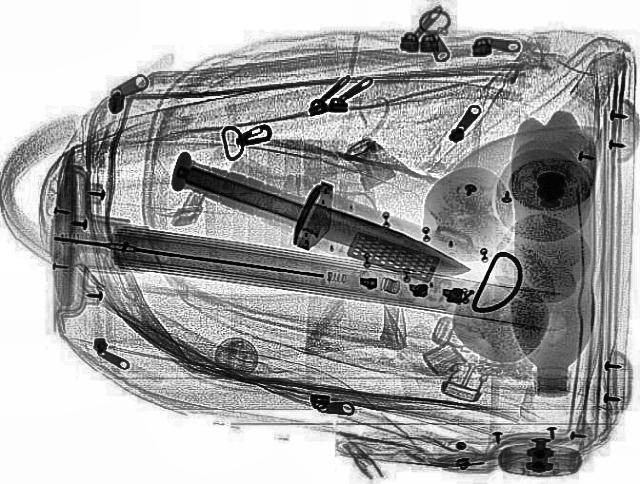Knife: (172, 158, 478, 284)
